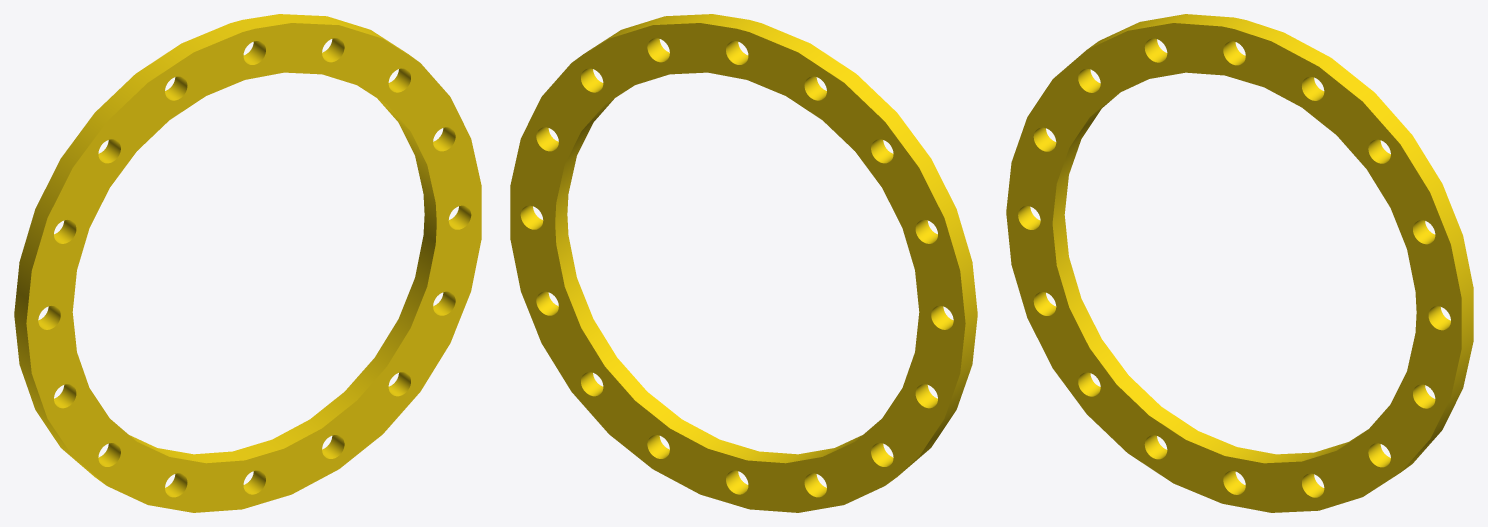
File: A26_S112_outputSpacer.gltf
3 views of the same model, side by side, from view 1: azimuth 30°, elevation 25°; view 2: azimuth 150°, elevation 25°; view 3: azimuth 330°, elevation 25° (orthographic).
Parts seen in each view (by area): view 1: mesh35090, mesh35098, mesh35107; view 2: mesh35091, mesh35098, mesh35107; view 3: mesh35090, mesh35098, mesh35107.
Part boxes in pixels (x1=…): mesh35090: x1=26, y1=23, x2=481, y2=512; mesh35098: x1=14, y1=14, x2=418, y2=483; mesh35107: x1=129, y1=98, x2=436, y2=463; mesh35091: x1=510, y1=23, x2=965, y2=512; mesh35098: x1=573, y1=14, x2=977, y2=483; mesh35107: x1=555, y1=98, x2=862, y2=463; mesh35090: x1=1006, y1=23, x2=1461, y2=512; mesh35098: x1=1087, y1=14, x2=1473, y2=472; mesh35107: x1=1052, y1=93, x2=1367, y2=463.
Size of the model in its own units: 0.0688 by 0.0689 by 0.0032.
